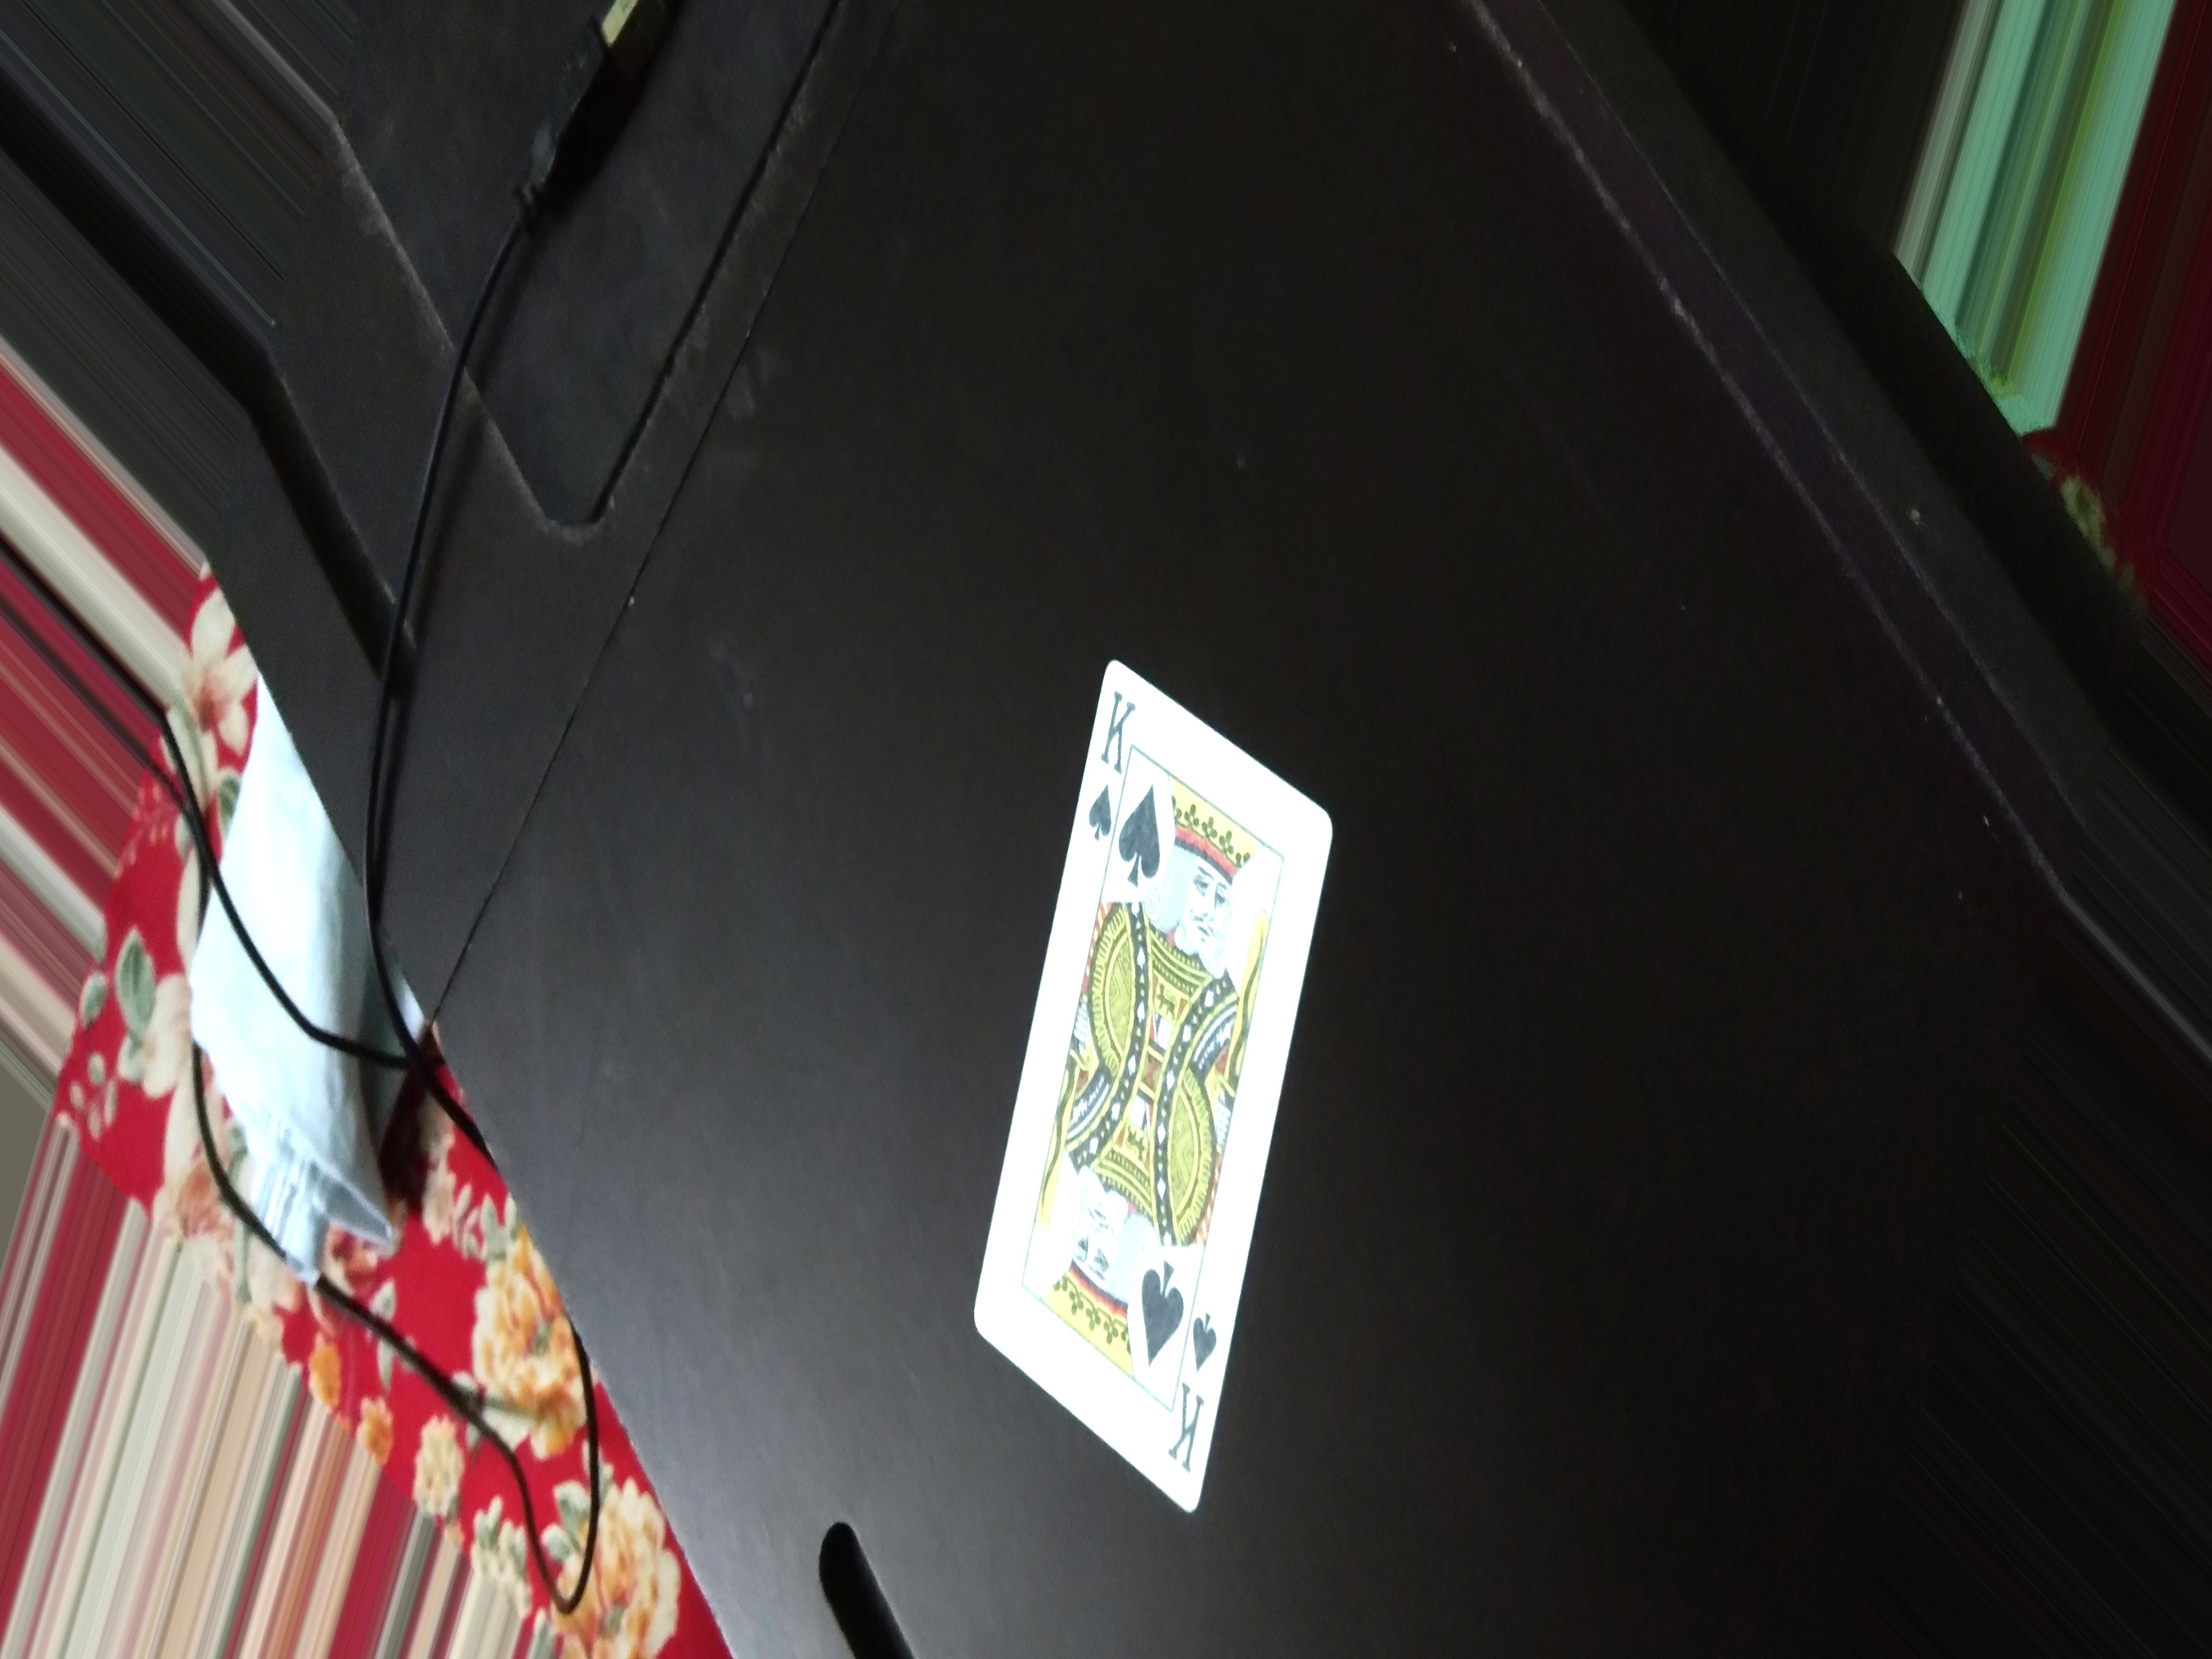KS: (1085, 674, 1141, 845)
